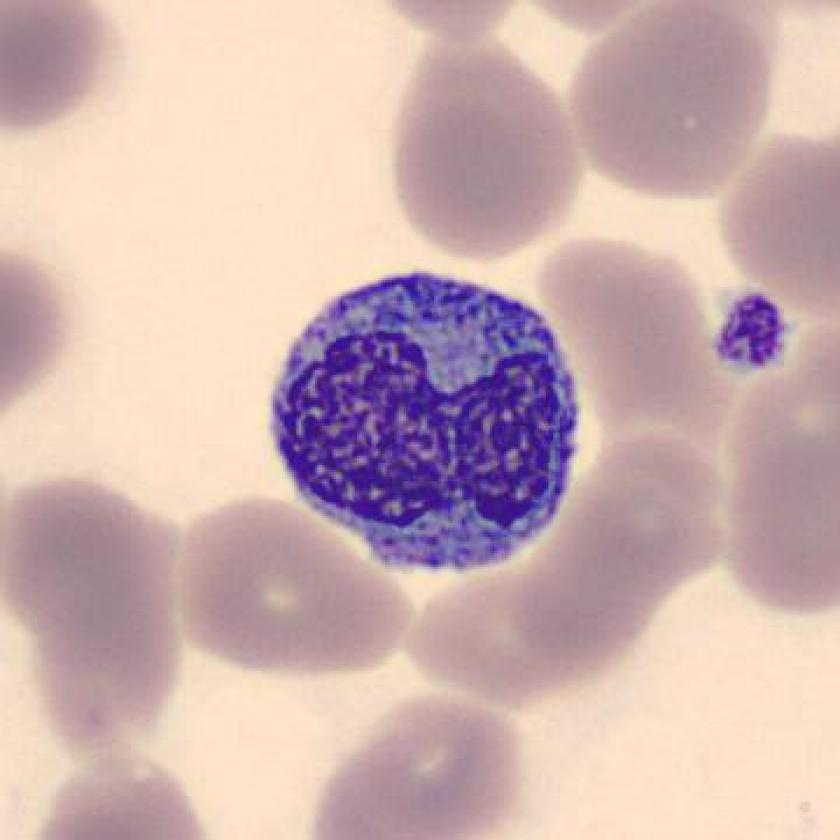monocyte: (253, 247, 594, 594)
